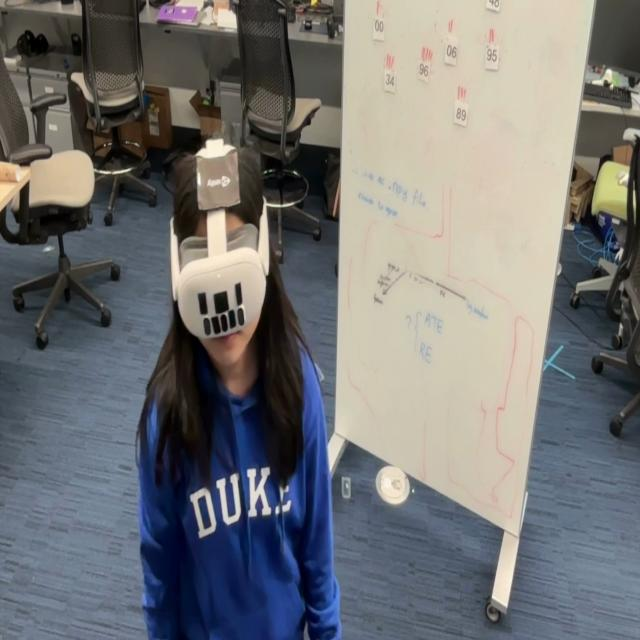UnityLogo: (195, 152, 242, 216)
